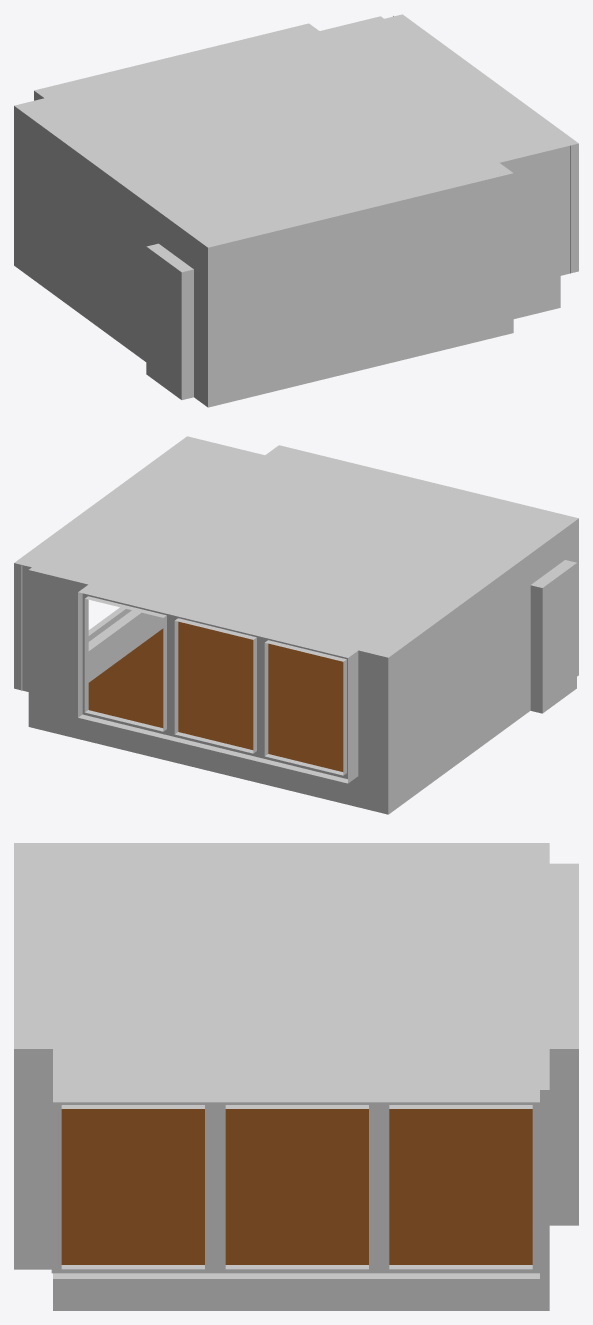
The picture shows the model from 3 angles, top to bottom: view 1: azimuth 30°, elevation 25°; view 2: azimuth 150°, elevation 25°; view 3: azimuth 270°, elevation 25°; orthographic projection. The views are drawn at different scales.
Parts seen in each view (by area): view 1: Cube; view 2: Cube, Cube.001; view 3: Cube, Cube.001.
Part boxes in pixels (left/top/right/bottom): Cube: left=14, top=14, right=578, bottom=407; Cube: left=14, top=436, right=578, bottom=814; Cube.001: left=21, top=565, right=347, bottom=778; Cube: left=14, top=843, right=578, bottom=1310; Cube.001: left=51, top=1096, right=542, bottom=1273.
Bounding box in the file's own units: 650 × 250 × 580.
